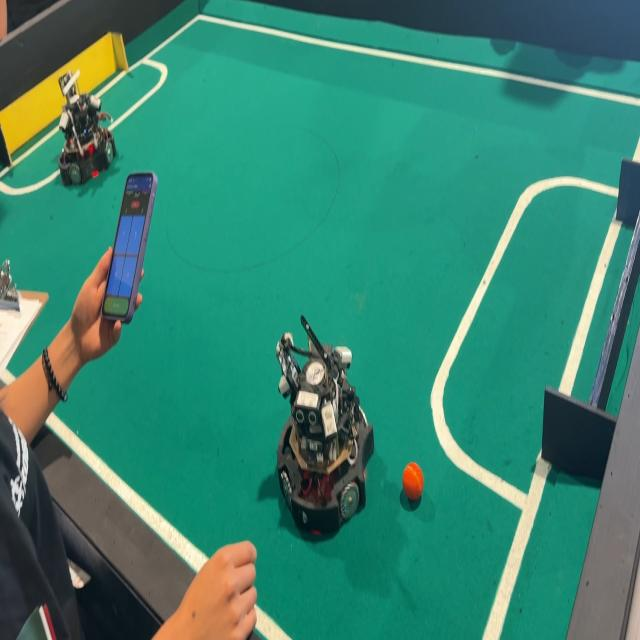Robot: (250, 308, 370, 552), (44, 61, 121, 199)
pelota: (400, 459, 427, 510), (401, 483, 425, 511)
